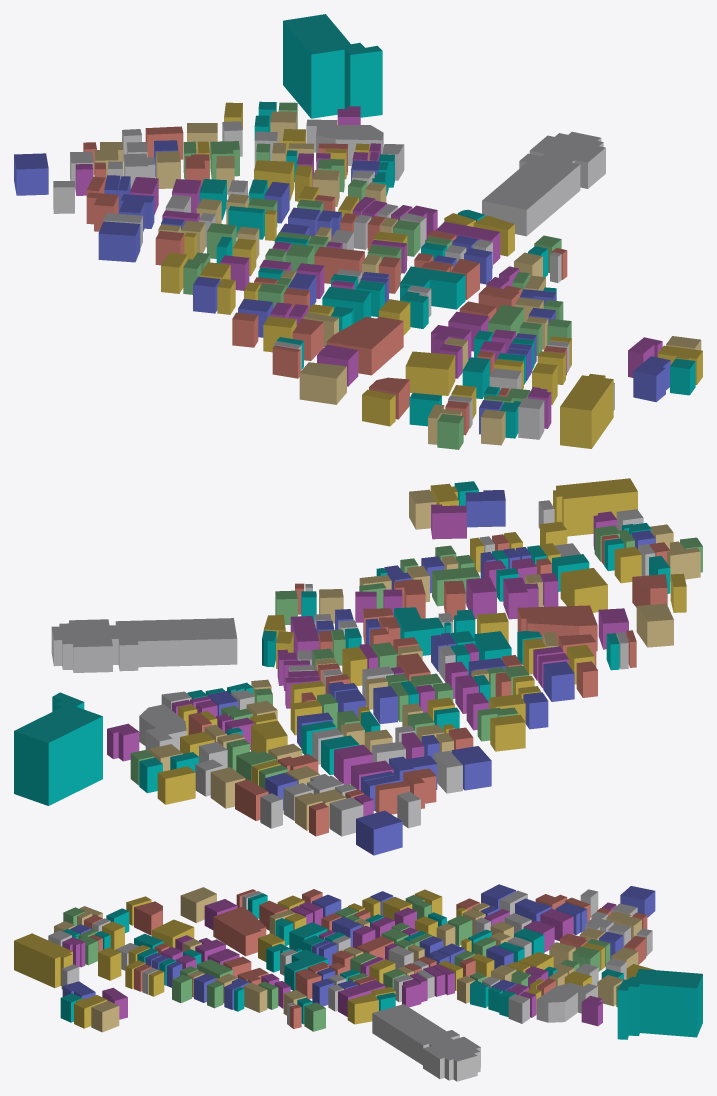
Rendered from shibuya-24.glb.
3 renders of one model, top to bottom at view 1: azimuth 30°, elevation 25°; view 2: azimuth 150°, elevation 25°; view 3: azimuth 270°, elevation 25°, orthographic. The views are drawn at different scales.
Parts seen in each view (by area): view 1: shibuya-24; view 2: shibuya-24; view 3: shibuya-24.
Boxes of the visible parts, box(x1,y1,x2,y2) form: shibuya-24: box(14, 14, 702, 449); shibuya-24: box(14, 478, 702, 855); shibuya-24: box(14, 884, 702, 1081).
Bounding box in the file's own units: 226 × 29.2 × 372.
